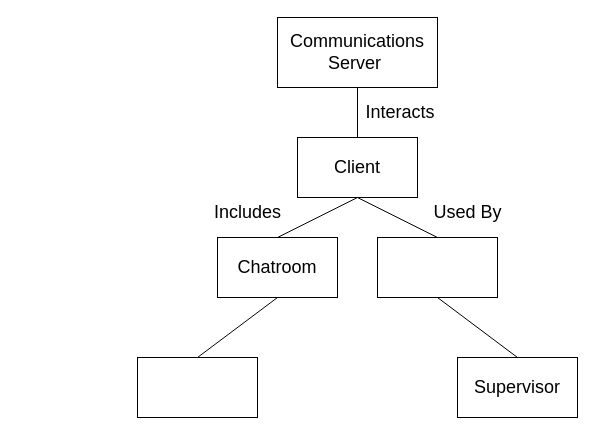
Image size: 595x435. Some labels were removed from this diagram. Each missing label, with the centre of its shape:
"Message" goes at [197,387].
"User" goes at [437,267].
